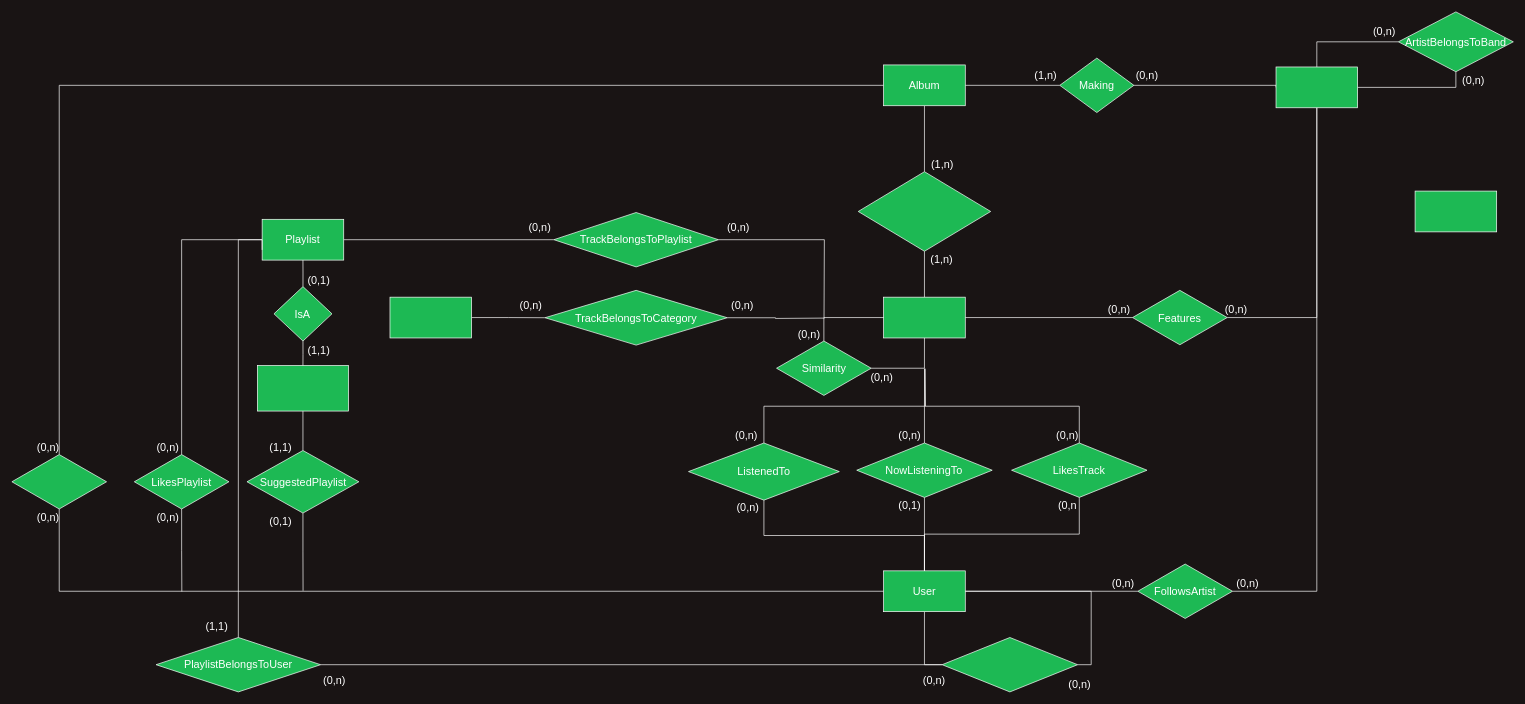
Image size: 1525x704. Some labels were removed from this diagram. The centre of each missing label's shape, as x and y in pixels:
Artist: the point at 1316,87
Category: the point at 430,317
DailySuggestion: the point at 302,388
FollowsUser: the point at 1009,664
LikesAlbum: the point at 59,481
Revenue: the point at 1455,211
Track: the point at 924,317
TrackBelongsToAlbum: the point at 924,211
